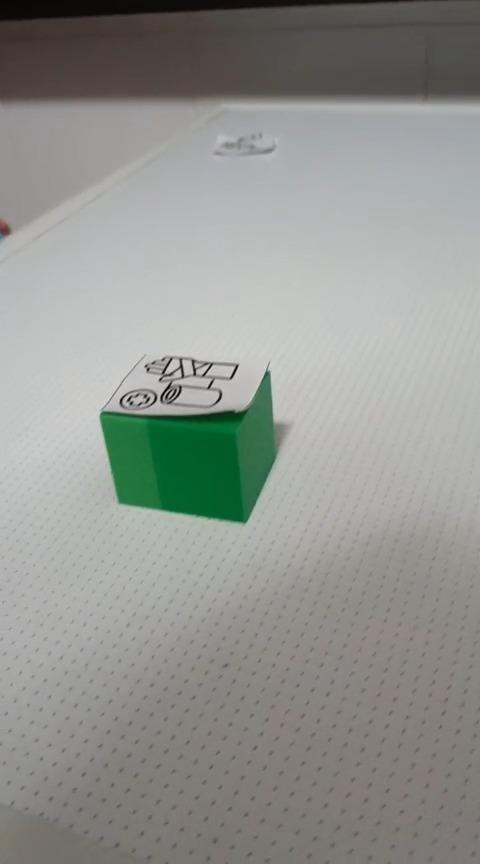Bandages: (98, 351, 277, 524)
